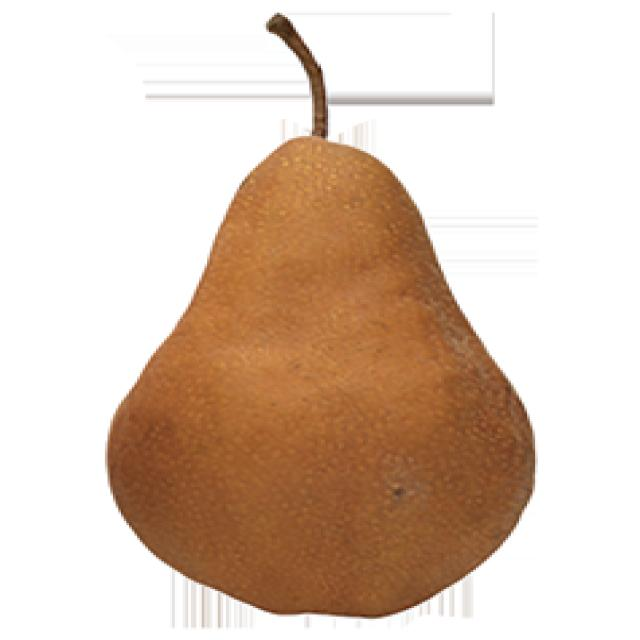paer: (41, 121, 582, 633)
